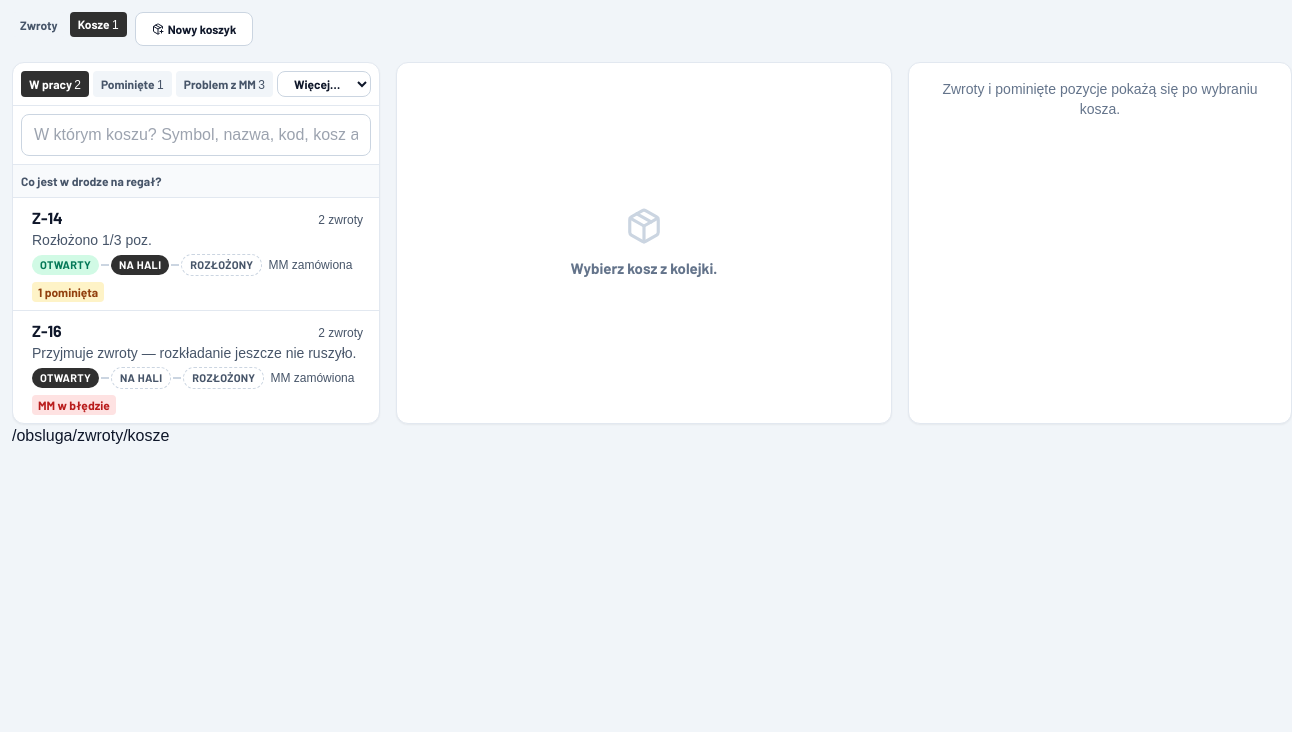
Kosze w zakładce Zwroty › kosze z kłopotem MM mają znacznik i własny kubełek z treścią odmowy (0.501.0)
The image size is (1292, 732).
Check: the text "MM w błędzie" is shown, box [32,395,116,415]
Step 1. Click the button "Problem z MM 3" → (224, 84), box [176,71,273,97]
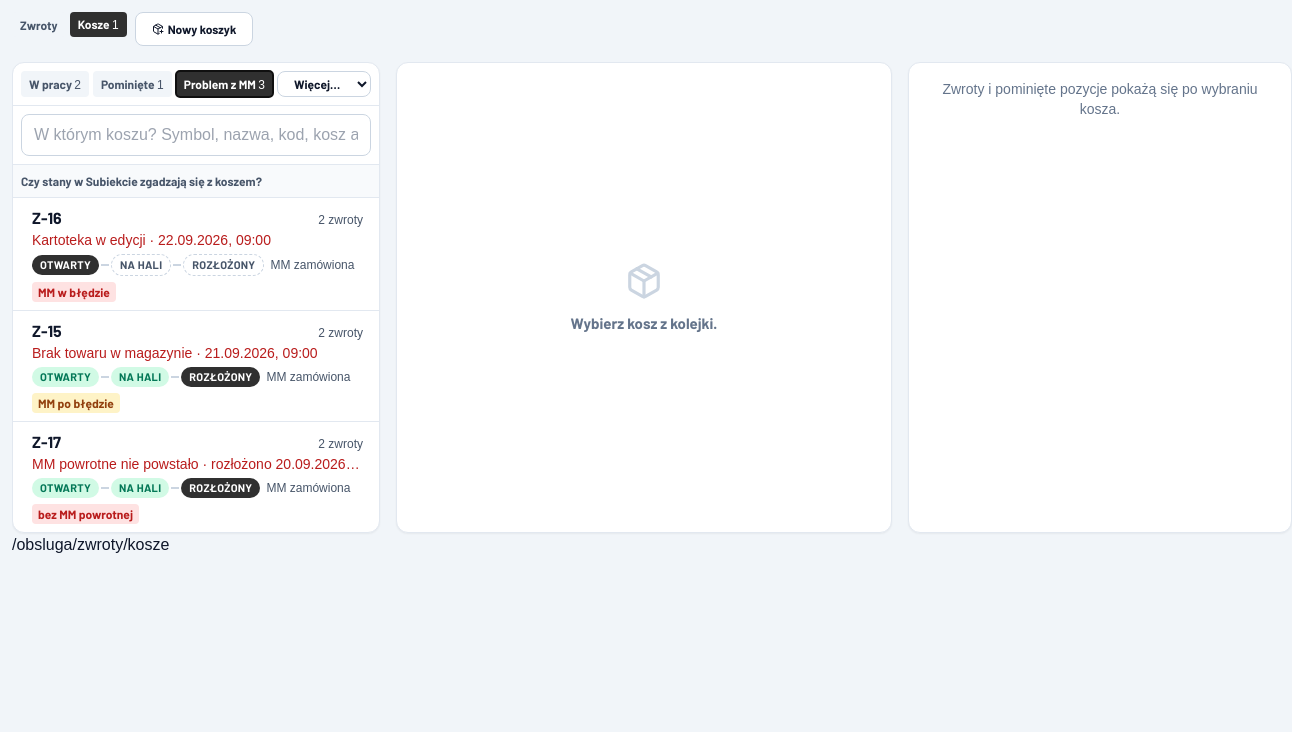
Check: the text "MM powrotne nie powstało · rozłożono 20.09.2026, 09:00" is shown, box [32,454,363,474]
Check: the text "bez MM powrotnej" is shown, box [32,504,139,524]
Check: the text "Brak towaru w magazynie · 21.09.2026, 09:00" is shown, box [32,343,363,363]
